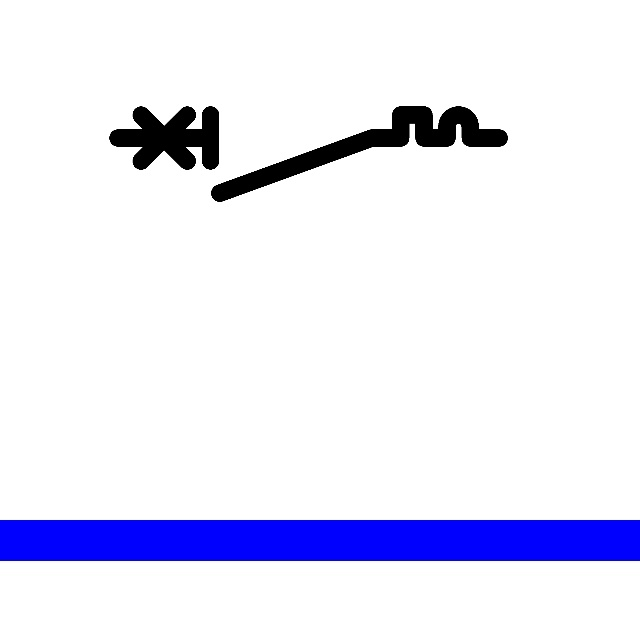interruptor_termomagnetico: (108, 105, 509, 203)
